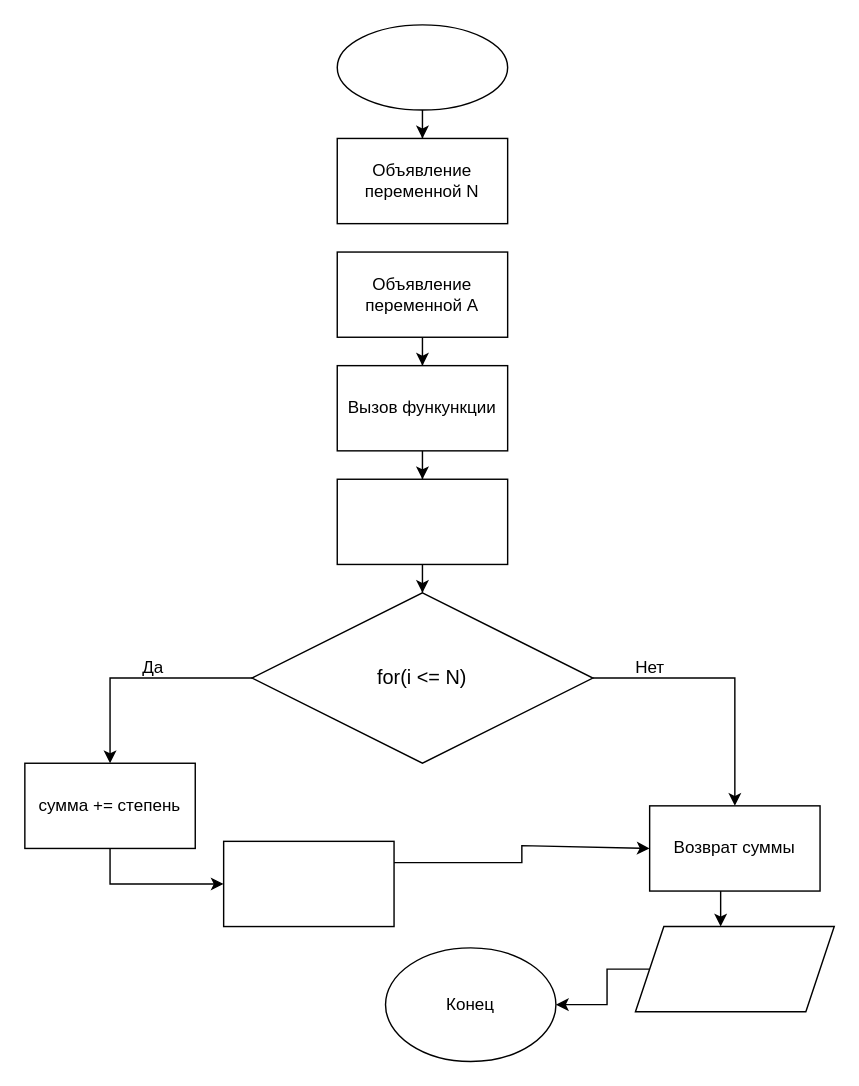
Image size: 859x1086. Some labels were removed from this diagram. Each missing label, with the centre of its shape:
Вывод результата работы функции: [734,968]
Начало: [422,66]
Объявление переменных summ, step: [422,521]
степень *= A: [308,883]
